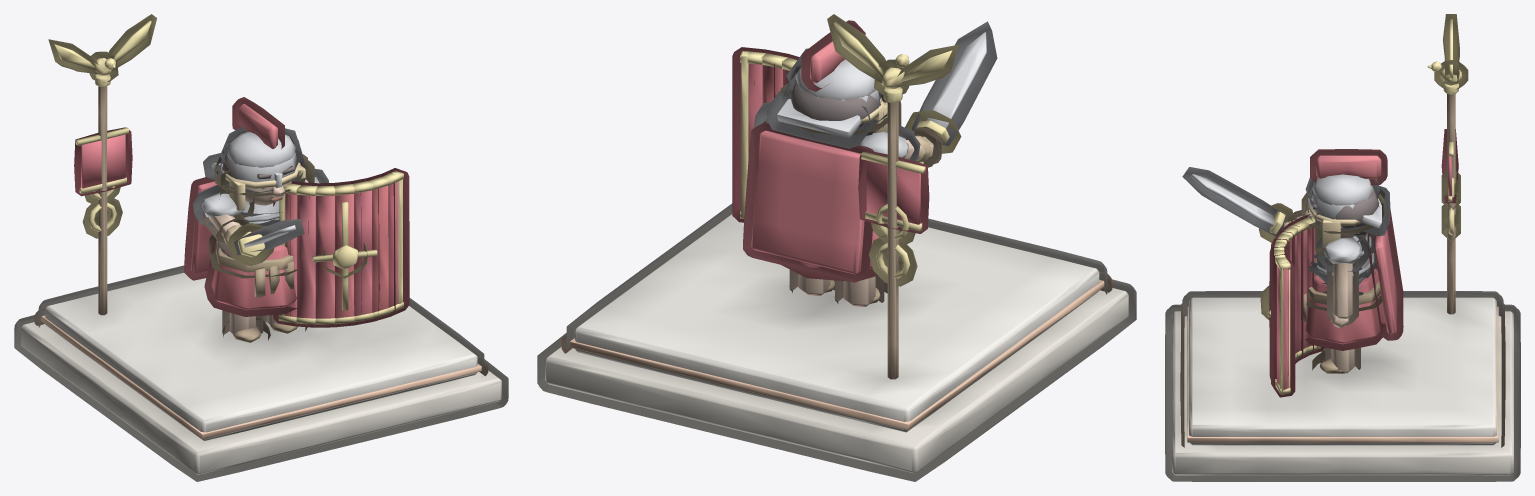
The model's file is legionary.glb.
3 views of the same model, side by side, from view 1: azimuth 30°, elevation 25°; view 2: azimuth 150°, elevation 25°; view 3: azimuth 270°, elevation 25° (orthographic). The views are drawn at different scales.
Visible parts, largest first — view 1: M_Legionary, M_Scutum, M_Body.007, M_Legionary_Outline, M_Body.007_Outline, M_Scutum_Outline, M_Arm_Outline, M_Cape.004, M_Cape.004_Outline, M_Blade_Outline, M_Arm; view 2: M_Legionary, M_Legionary_Outline, M_Cape.004, M_Body.007, M_Body.007_Outline, M_Scutum, M_Cape.004_Outline, M_Blade_Outline, M_Blade, M_Scutum_Outline, M_Arm_Outline, M_Arm; view 3: M_Legionary, M_Body.007, M_Legionary_Outline, M_Body.007_Outline, M_Scutum, M_Scutum_Outline, M_Blade_Outline, M_Cape.004, M_Cape.004_Outline, M_Blade, M_Arm_Outline.
Boxes of the visible parts, x1=… form: M_Legionary: x1=21, y1=20, x2=501, y2=474; M_Scutum: x1=278, y1=171, x2=403, y2=324; M_Body.007: x1=202, y1=104, x2=319, y2=342; M_Legionary_Outline: x1=14, y1=14, x2=508, y2=481; M_Body.007_Outline: x1=192, y1=97, x2=328, y2=340; M_Scutum_Outline: x1=273, y1=168, x2=409, y2=327; M_Arm_Outline: x1=202, y1=199, x2=274, y2=265; M_Cape.004: x1=191, y1=181, x2=217, y2=273; M_Cape.004_Outline: x1=184, y1=177, x2=214, y2=280; M_Blade_Outline: x1=234, y1=218, x2=304, y2=255; M_Arm: x1=209, y1=214, x2=265, y2=257; M_Legionary: x1=545, y1=21, x2=1128, y2=473; M_Legionary_Outline: x1=537, y1=14, x2=1136, y2=481; M_Cape.004: x1=751, y1=130, x2=864, y2=274; M_Body.007: x1=766, y1=41, x2=908, y2=306; M_Body.007_Outline: x1=753, y1=20, x2=920, y2=303; M_Scutum: x1=740, y1=50, x2=796, y2=218; M_Cape.004_Outline: x1=743, y1=122, x2=874, y2=282; M_Blade_Outline: x1=911, y1=21, x2=997, y2=146; M_Blade: x1=926, y1=32, x2=986, y2=130; M_Scutum_Outline: x1=732, y1=47, x2=799, y2=222; M_Arm_Outline: x1=898, y1=110, x2=961, y2=167; M_Arm: x1=905, y1=120, x2=949, y2=163; M_Legionary: x1=1172, y1=19, x2=1513, y2=475; M_Body.007: x1=1303, y1=155, x2=1385, y2=373; M_Legionary_Outline: x1=1165, y1=14, x2=1520, y2=481; M_Body.007_Outline: x1=1301, y1=149, x2=1390, y2=370; M_Scutum: x1=1268, y1=216, x2=1321, y2=394; M_Scutum_Outline: x1=1260, y1=214, x2=1324, y2=397; M_Blade_Outline: x1=1182, y1=167, x2=1284, y2=236; M_Cape.004: x1=1374, y1=229, x2=1396, y2=334; M_Cape.004_Outline: x1=1367, y1=209, x2=1403, y2=340; M_Blade: x1=1191, y1=174, x2=1274, y2=226; M_Arm_Outline: x1=1259, y1=203, x2=1301, y2=242.
Size of the model in its own units: 3.12 by 3.14 by 3.12.
